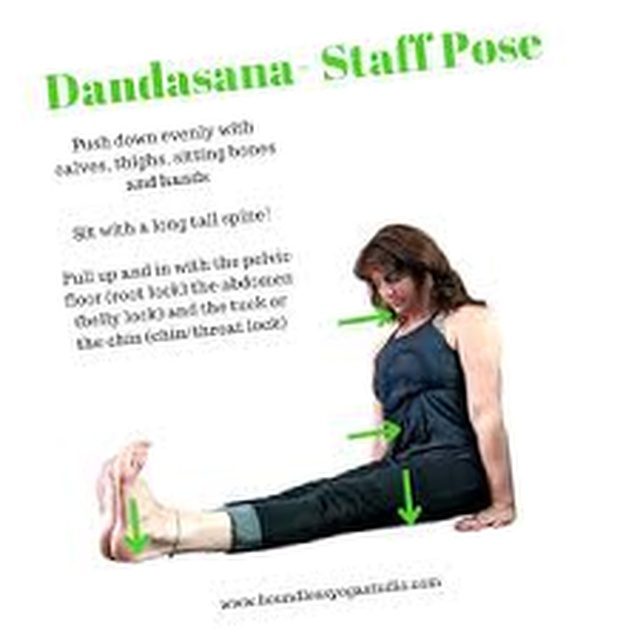Staff_Pose: (96, 223, 517, 566)
